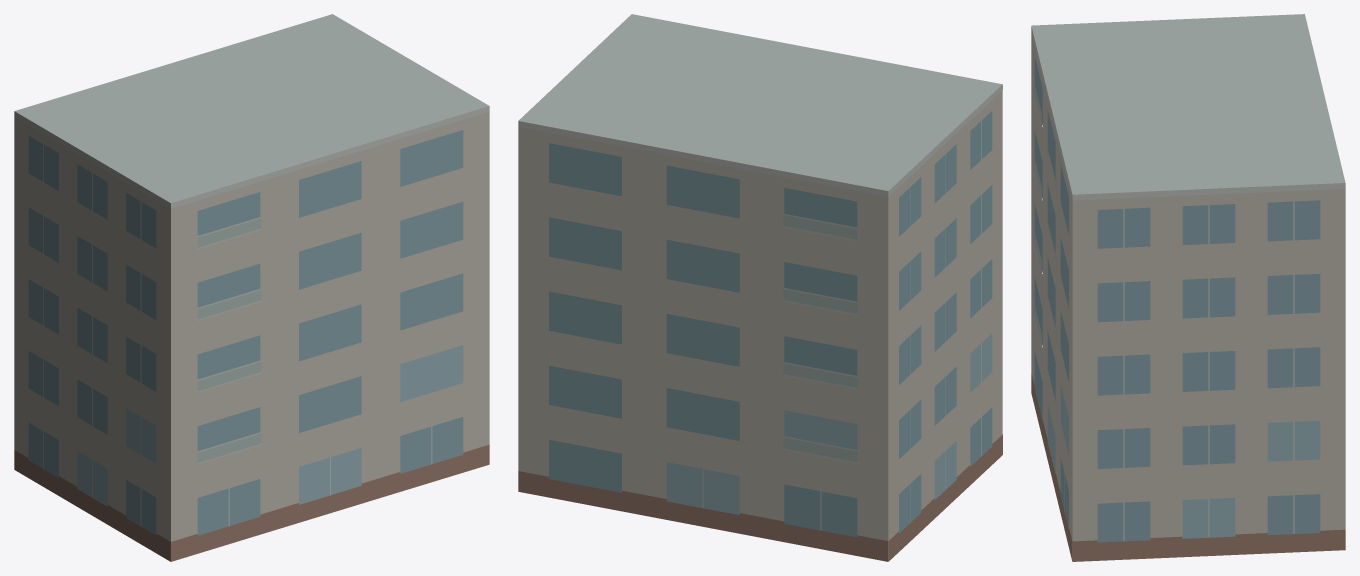
The model's file is survey-upis-32782040.glb.
3 views of the same model, side by side, from view 1: azimuth 30°, elevation 25°; view 2: azimuth 150°, elevation 25°; view 3: azimuth 270°, elevation 25° (orthographic). The views are drawn at different scales.
Visible parts, largest first — view 1: survey-upis-32782040.tmp; view 2: survey-upis-32782040.tmp; view 3: survey-upis-32782040.tmp.
Boxes of the visible parts, x1,y1,x2,y2 form: survey-upis-32782040.tmp: (14,14,489,561); survey-upis-32782040.tmp: (518,14,1002,561); survey-upis-32782040.tmp: (1031,14,1345,561).
Bounding box in the file's own units: 16.32 × 15.45 × 12.
